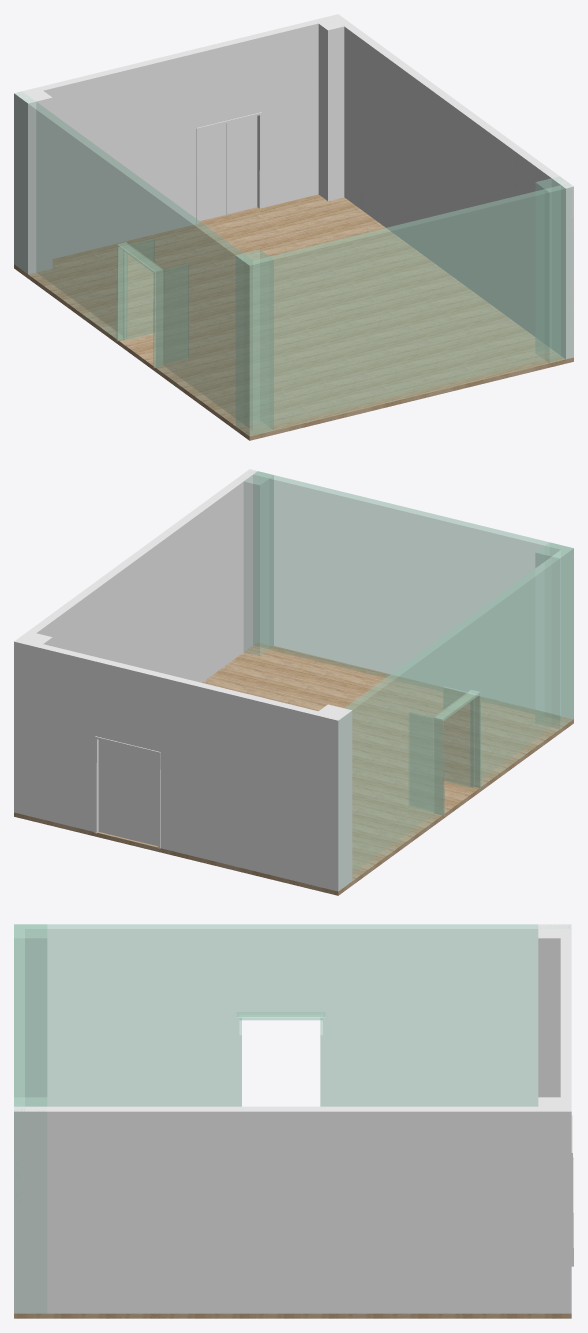
Rendered from fang2.FBX.
3 views of the same model, one above another, from view 1: azimuth 30°, elevation 25°; view 2: azimuth 150°, elevation 25°; view 3: azimuth 270°, elevation 25° (orthographic). The views are drawn at different scales.
Parts seen in each view (by area): view 1: Line009; view 2: Line009; view 3: Line009.
Part boxes in pixels (x1,y1,x2,y2): Line009: (14, 14, 573, 440); Line009: (14, 469, 573, 895); Line009: (14, 924, 573, 1318).
Bounding box in the file's own units: 7.99 × 4.1 × 10.04.
